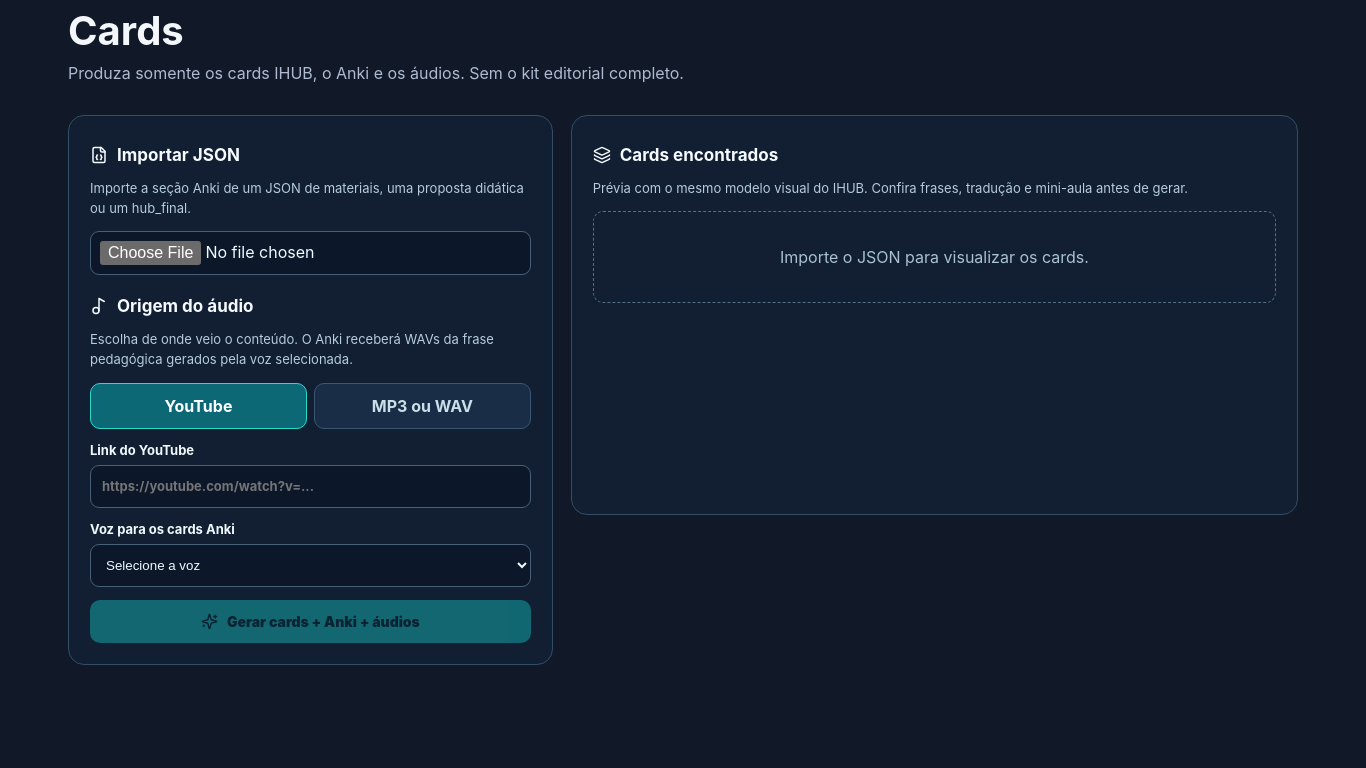
it: Cards-only studio › does not require any editorial project and offers JSON upload and two sources
The width and height of the screenshot is (1366, 768).
Expected: the heading "Cards" is shown, [68,6,184,55]
Expected: the file field named "Arquivo JSON de cards" is shown, [90,231,531,275]
What coordinates should you click on to do the following:
click the button "MP3 ou WAV"
I would click on:
 (422, 406)
Its box is [314,383,531,429].
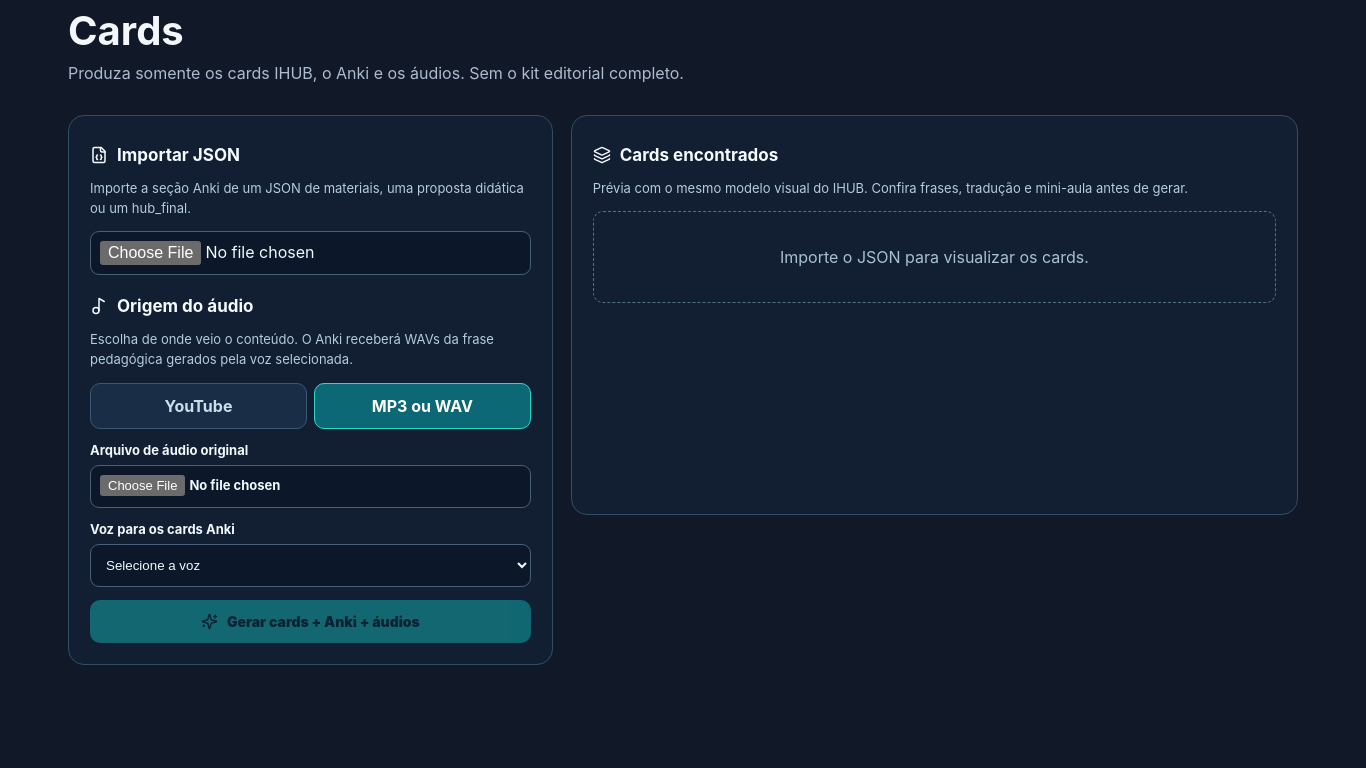
Expected: the button "Gerar cards + Anki + áudios" is disabled, [90,600,531,643]
Expected: the file field named "MP3 ou WAV de origem" is shown, [90,465,531,508]
